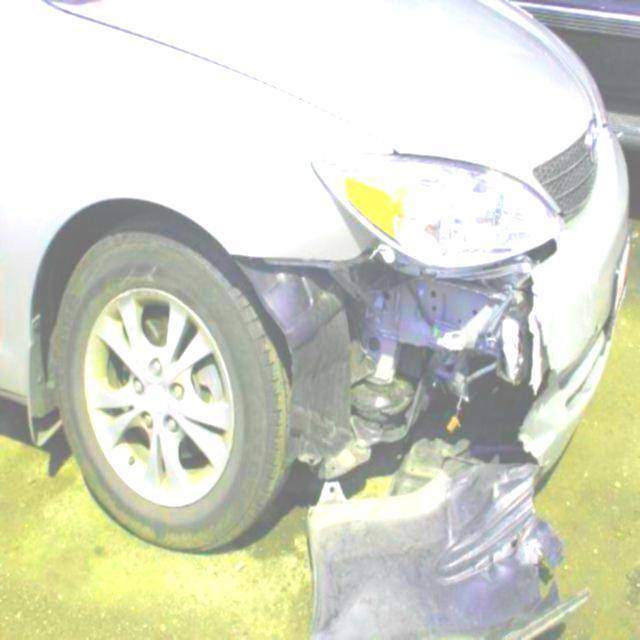minor: (233, 231, 588, 474)
